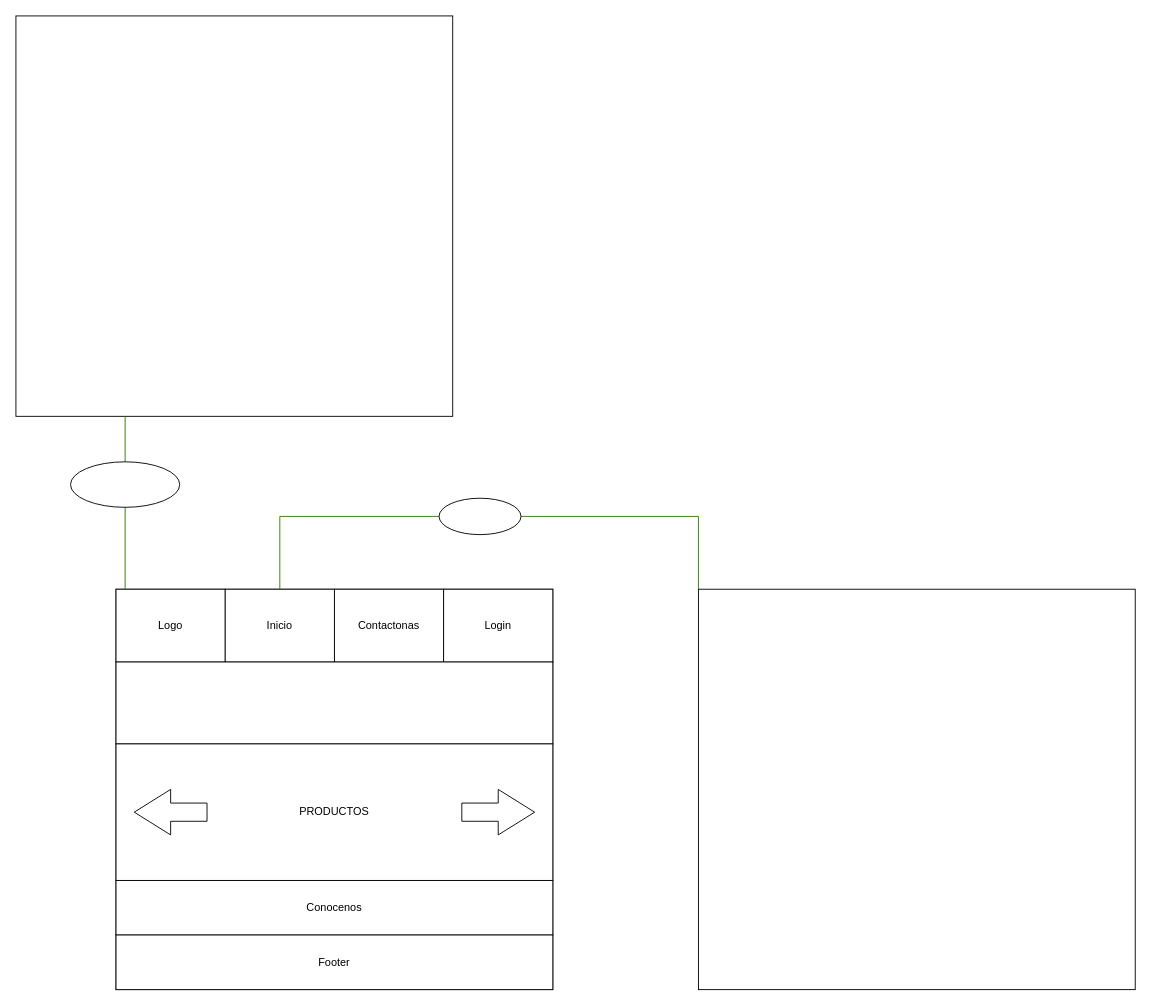
The diagram is 1151 pixels wide and 1006 high, and some of its shapes have lost their labels. The shapes that lost their labels are listed below. From the top down, each one's centre as x and y in pixels, then its label:
At [125,484]: "Login Incorrecto".
At [479,516]: "Login Correcto".
At [334,702]: "Banner/Nombre/Fondo".
